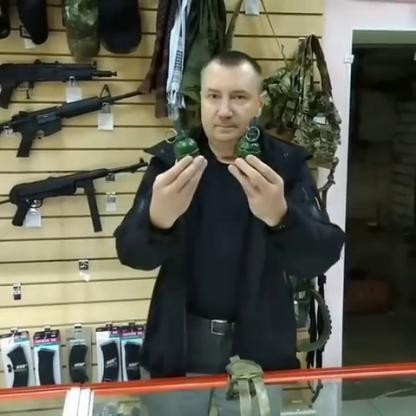Grenade: (235, 119, 266, 165), (167, 128, 203, 161)
Gun: (0, 157, 147, 232), (0, 87, 150, 157), (0, 59, 121, 108)
